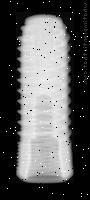Euroteknika: (16, 12, 74, 183)
